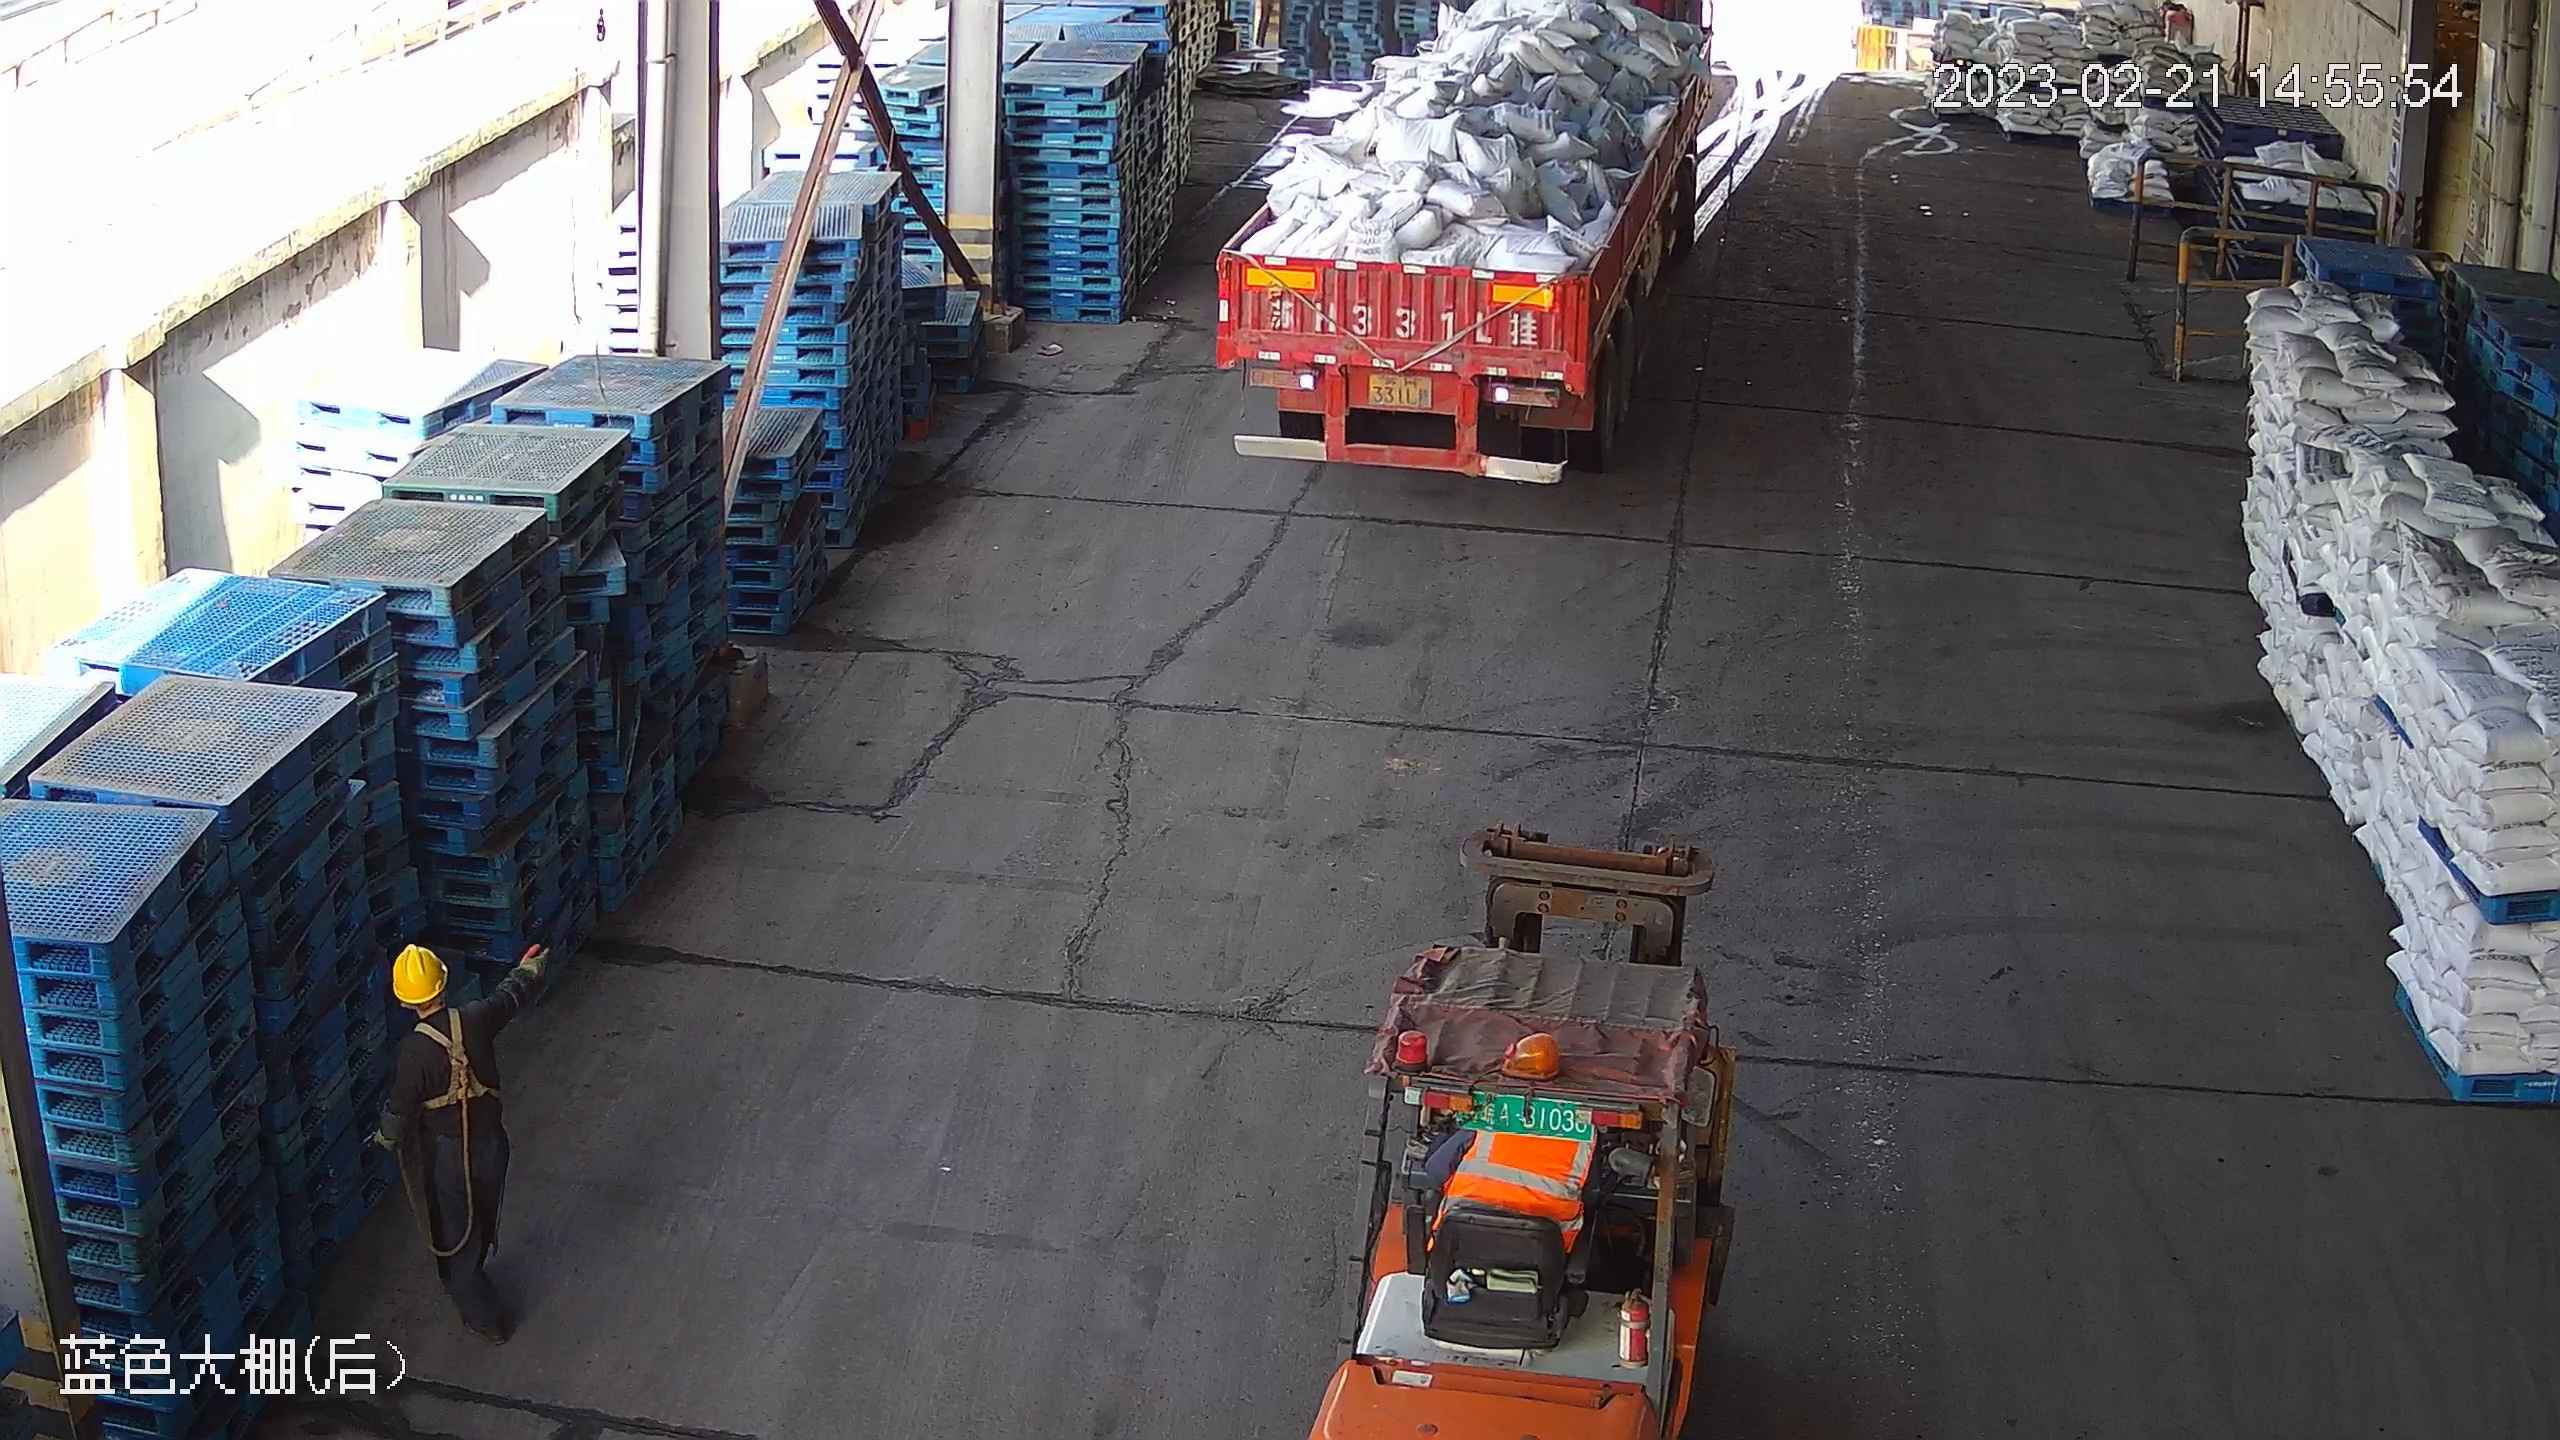belt: (404, 1018, 493, 1113)
head: (377, 943, 486, 1050)
helmet: (383, 943, 448, 1004)
people: (356, 936, 560, 1346)
truck: (1211, 1, 1753, 527)
